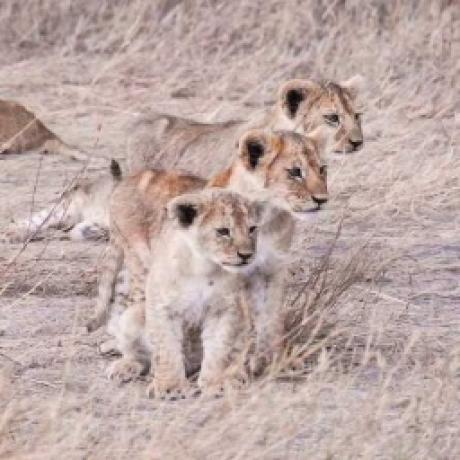Lion: (87, 127, 336, 338), (120, 188, 264, 407), (121, 72, 373, 168)
